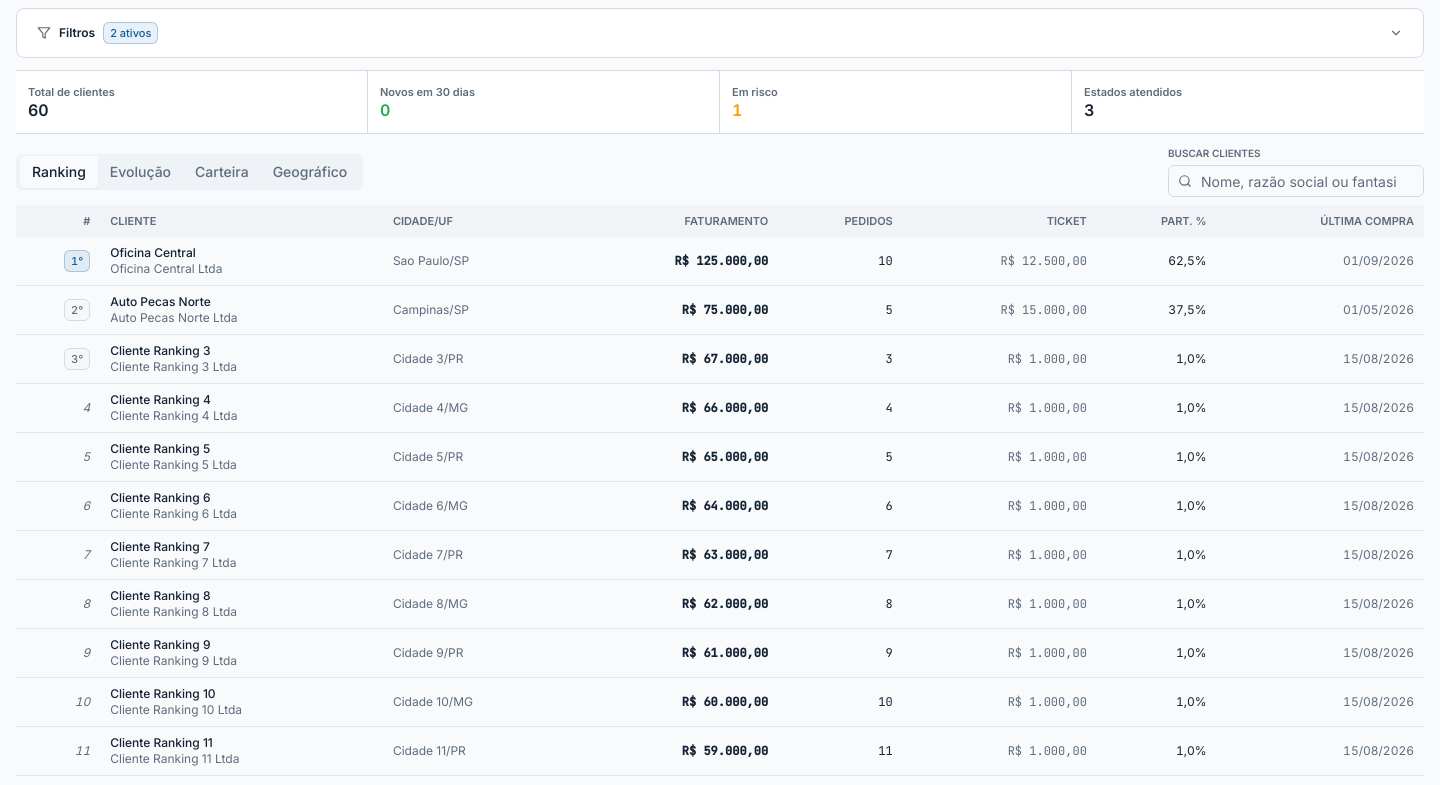
Test case: ClientesPage compacta › mantem um unico ranking dentro da viewport e restringe a busca a ele
In the search field labelled "Buscar clientes": (1296, 181) left=1168, top=165, right=1424, bottom=197, type "norte"
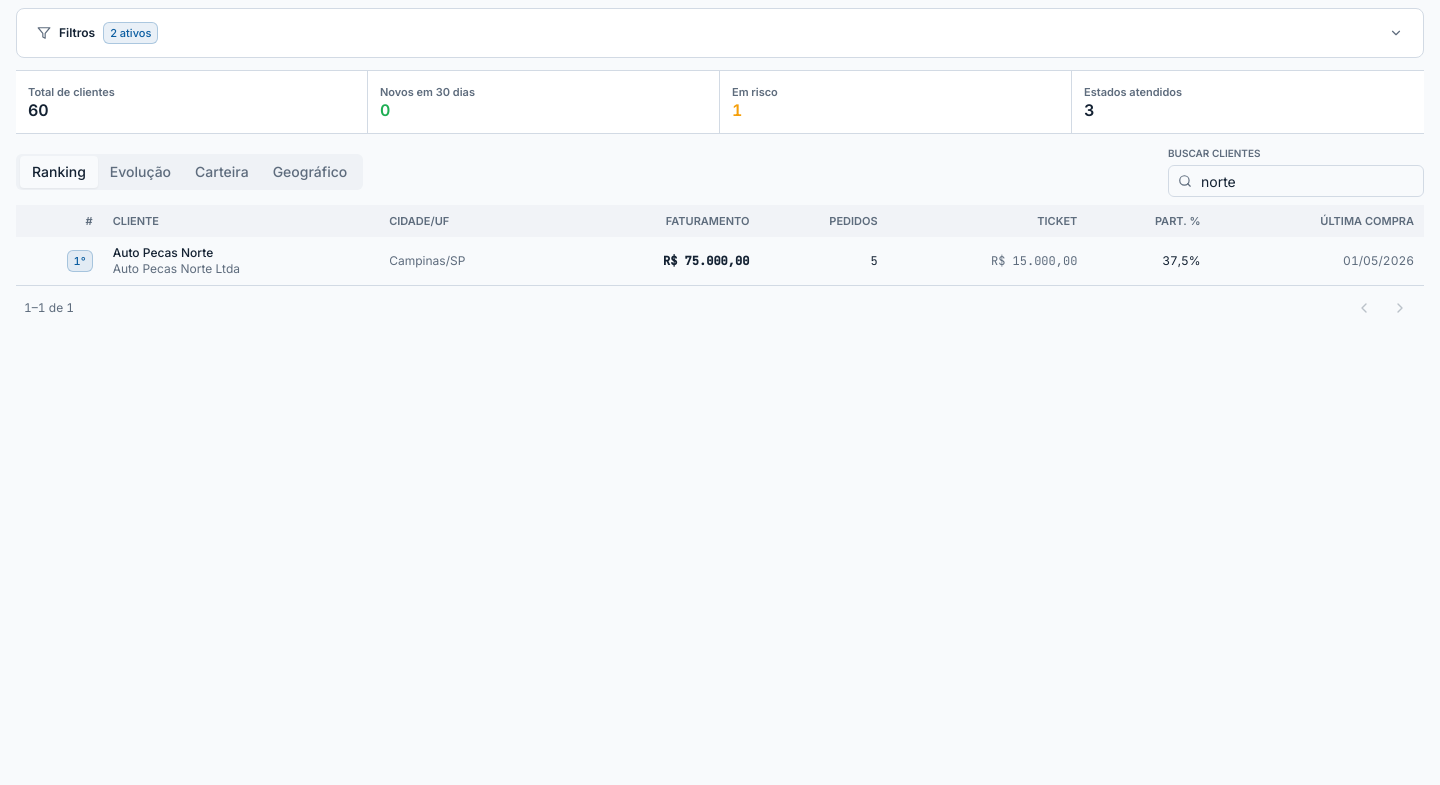
Expected: the text "Auto Pecas Norte" is shown, left=113, top=245, right=213, bottom=260
Expected: the text "Oficina Central" is gone
